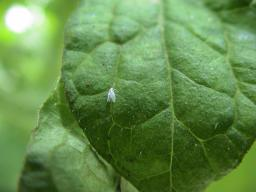whitefly: (102, 87, 121, 104)
